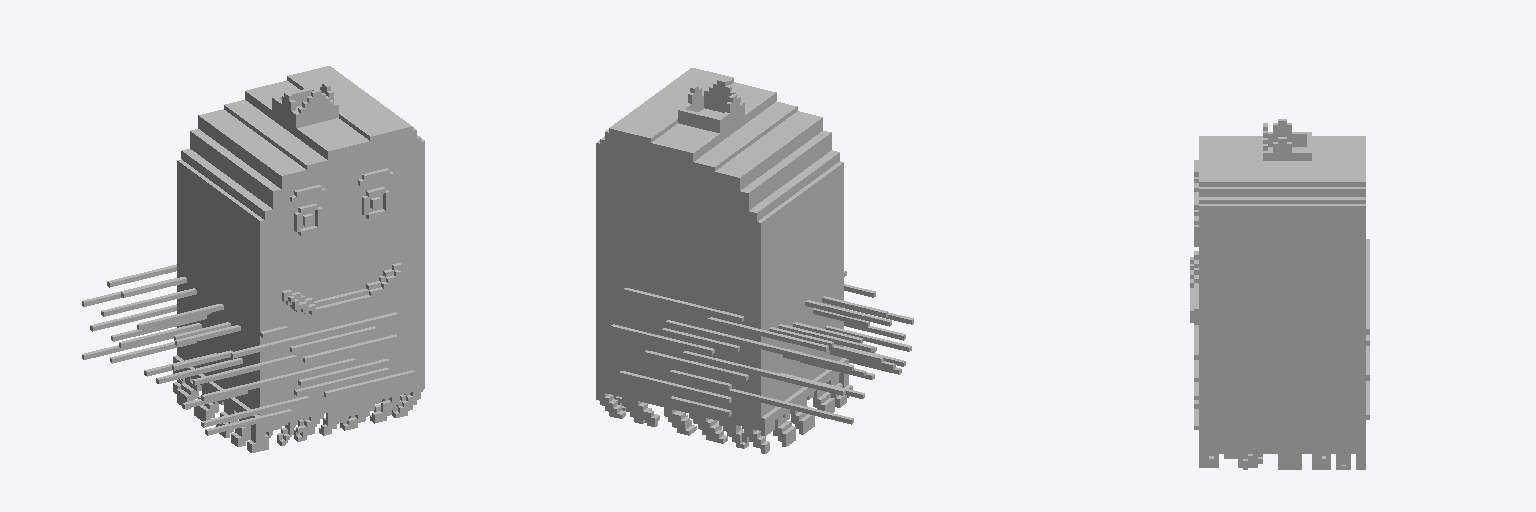
The model's file is ghost an 2.obj.
The picture shows the model from 3 angles: view 1: azimuth 30°, elevation 25°; view 2: azimuth 150°, elevation 25°; view 3: azimuth 270°, elevation 25°; orthographic projection.
Parts seen in each view (by area): view 1: object 1; view 2: object 1; view 3: object 1.
Boxes of the visible parts, x1,y1,x2,y2 form: object 1: [82, 66, 424, 452]; object 1: [596, 68, 913, 453]; object 1: [1190, 119, 1369, 469].
Size of the model in its own units: 6.1 by 7.1 by 3.7.